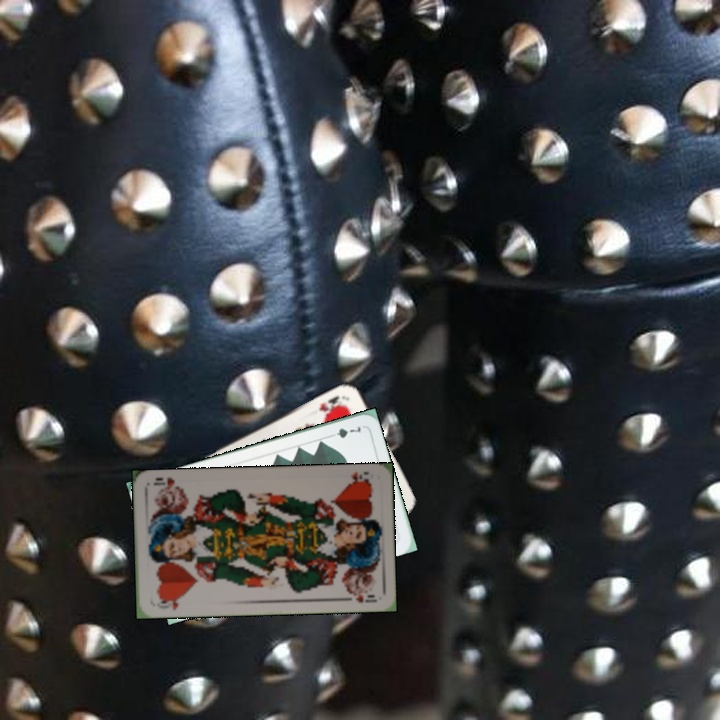G7: (324, 422, 364, 441)
HK: (315, 392, 349, 417)
HO: (155, 593, 184, 613), (344, 468, 374, 487)
